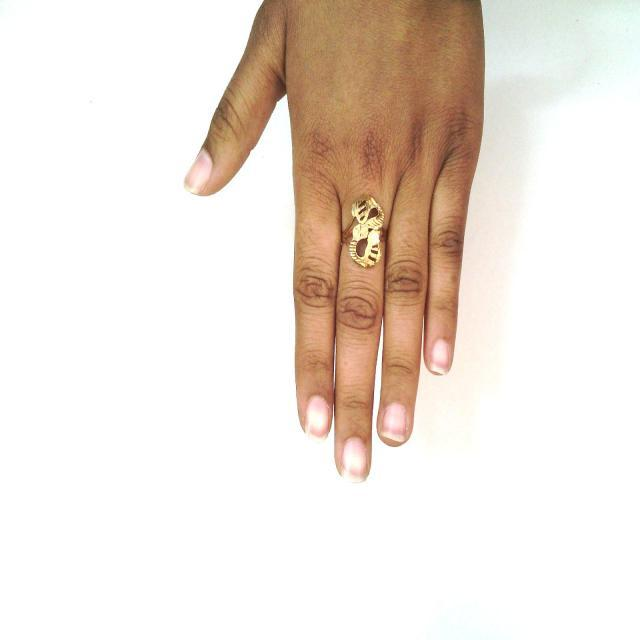Fingernail: (342, 438, 367, 482), (185, 149, 211, 191), (381, 403, 407, 441), (307, 395, 329, 438), (430, 340, 450, 373)
